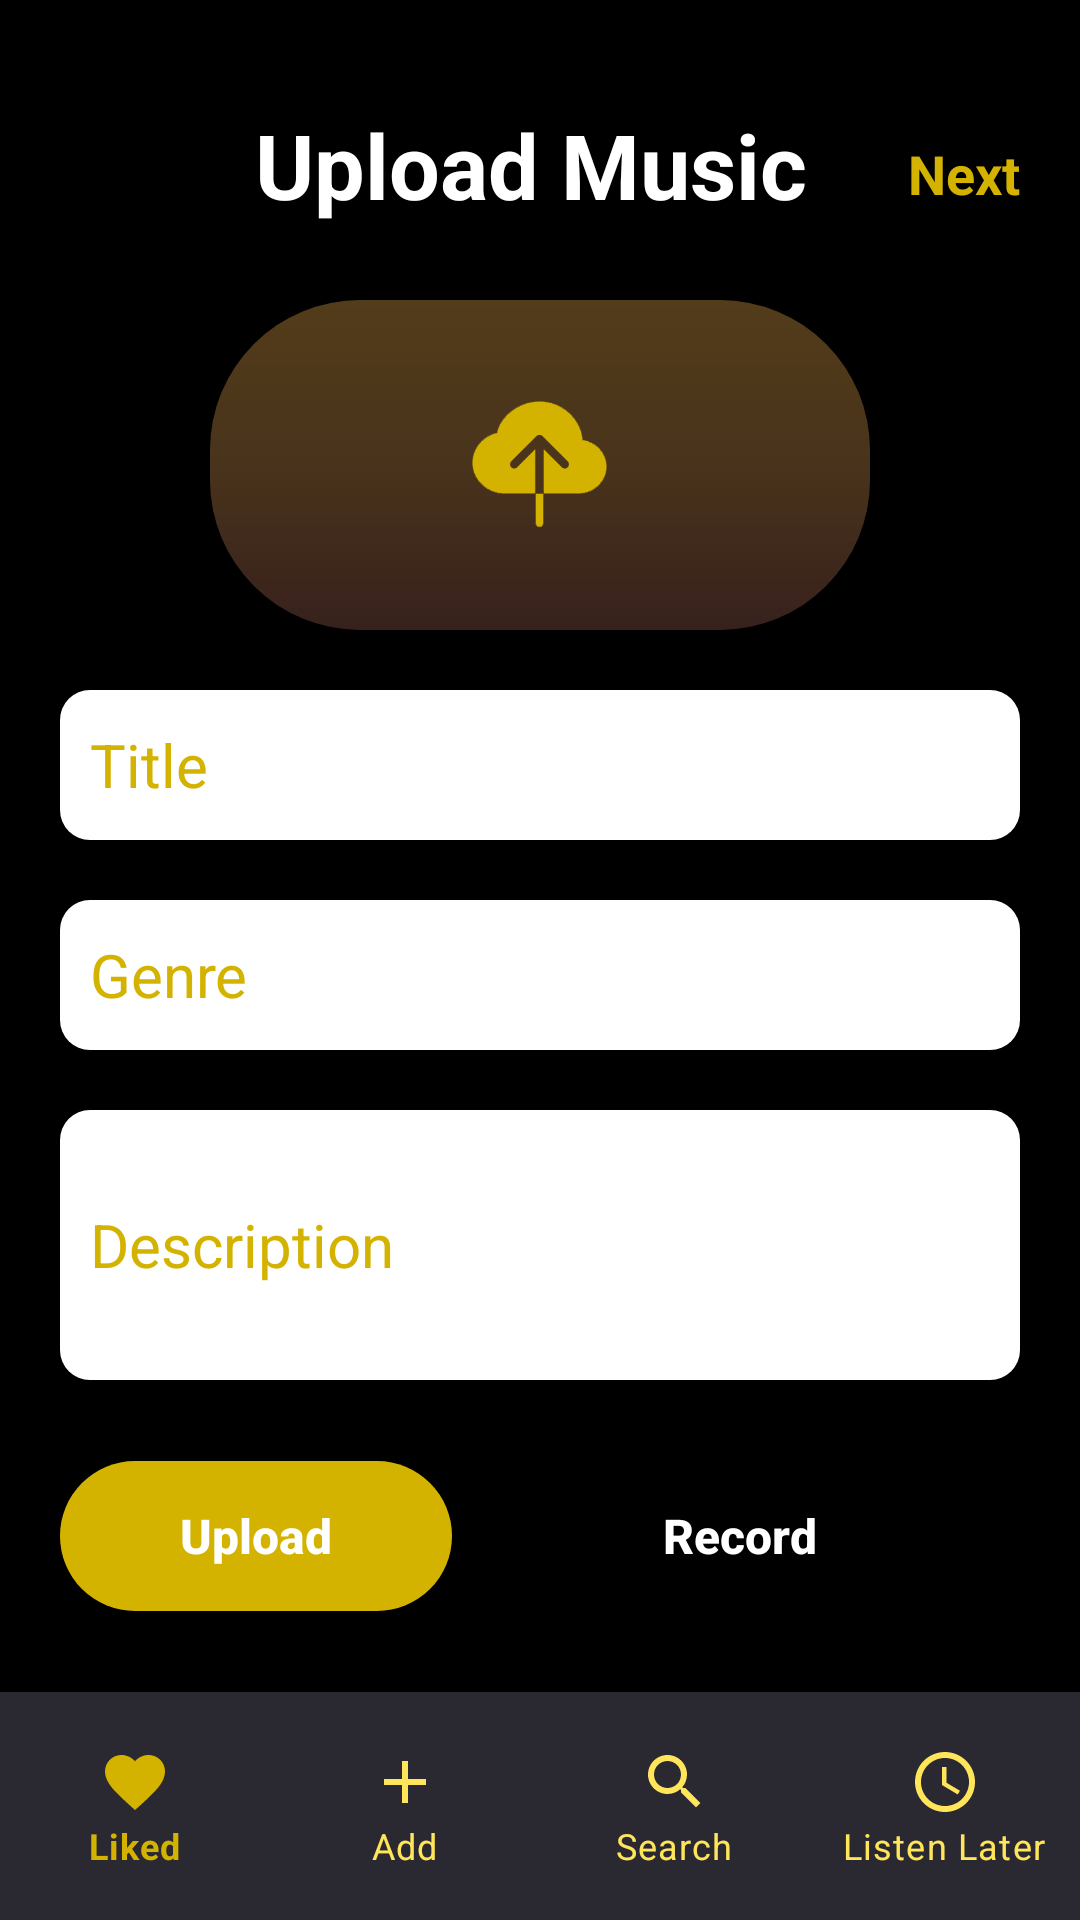

Screen size 1080px x 1920px. Icon name, then its box in pixels as (x1, y1, x2, y2):
Upload Icon: (472, 401, 607, 527)
